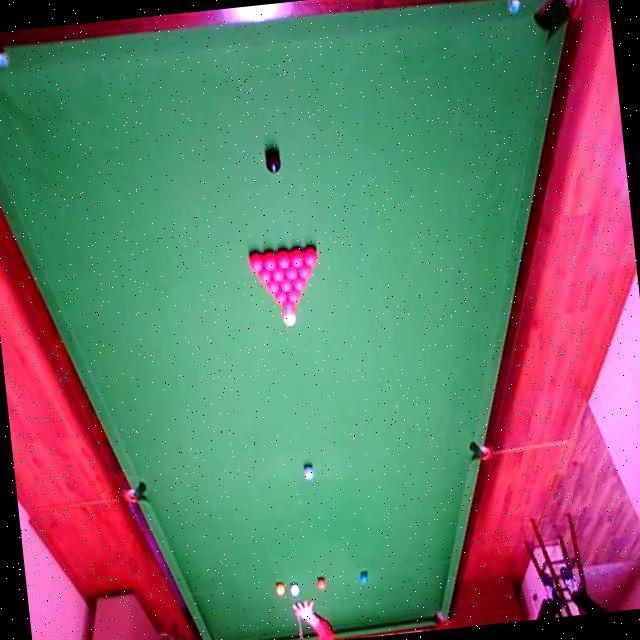Ball: (261, 148, 283, 173), (275, 247, 292, 269), (303, 245, 319, 268), (248, 253, 263, 273), (290, 248, 305, 267), (263, 249, 277, 269), (282, 313, 297, 331), (288, 579, 302, 597), (274, 580, 287, 598), (298, 265, 313, 280), (271, 266, 285, 282), (282, 299, 296, 314), (265, 279, 279, 294), (303, 465, 315, 482), (284, 266, 298, 280), (274, 289, 287, 304), (280, 278, 293, 293), (258, 267, 270, 283), (294, 277, 307, 290), (288, 288, 300, 302), (316, 576, 327, 591), (359, 571, 369, 585)
